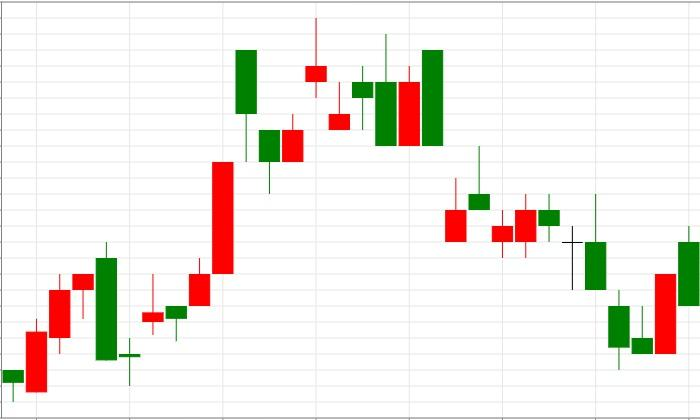bearish_engulfing_fall: (2, 241, 117, 402)
bullish_engulfing_rise: (538, 193, 677, 371)
